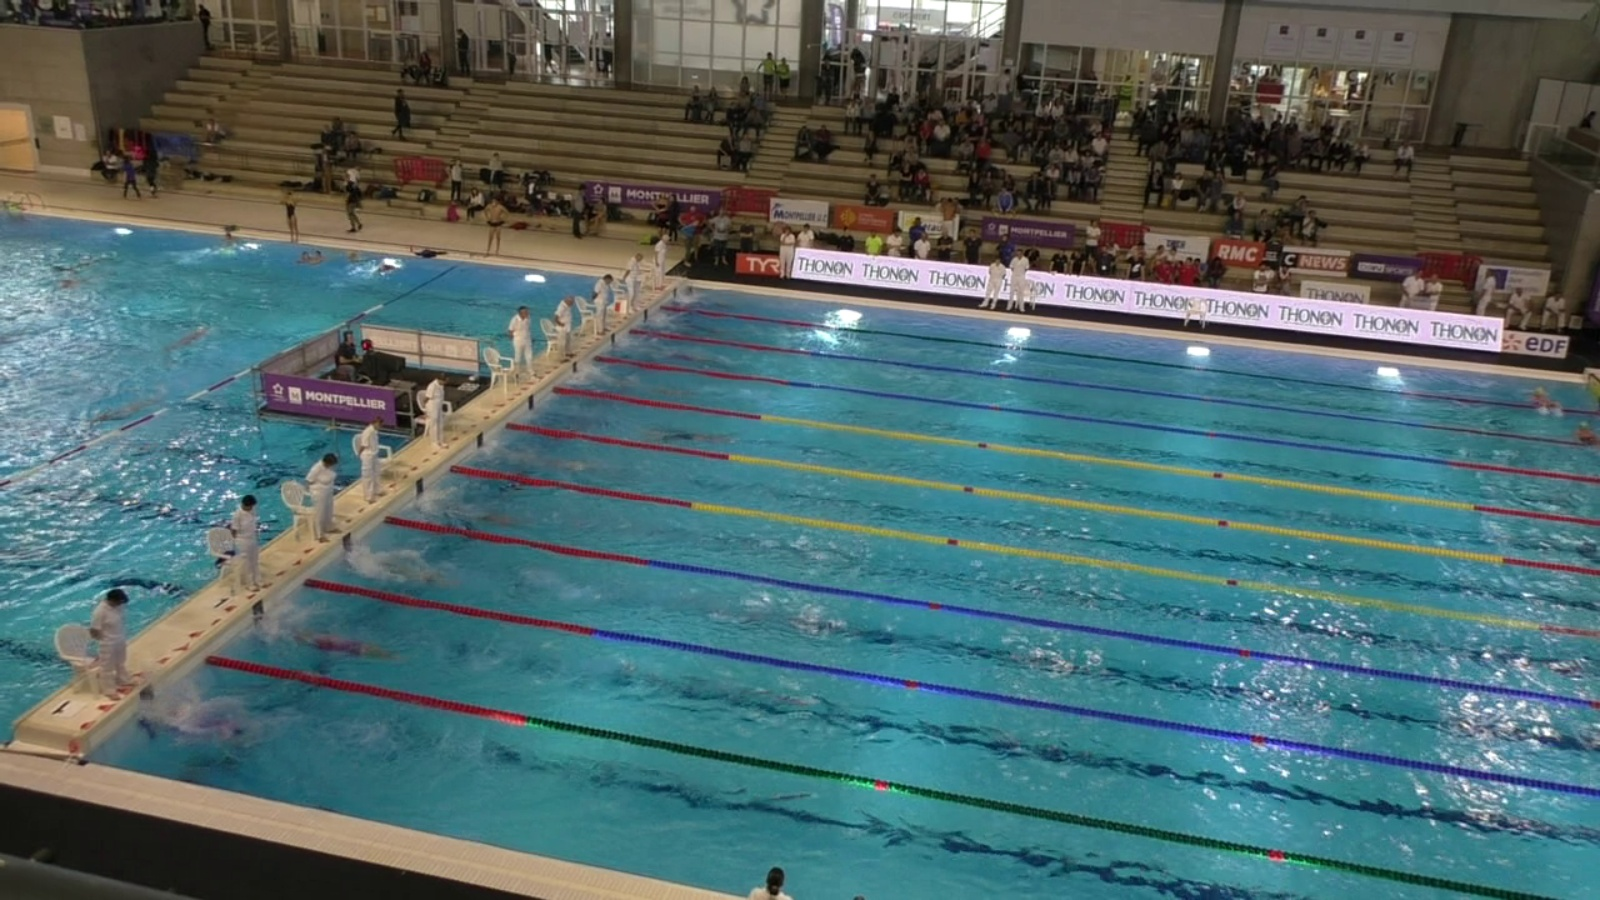swimmerwdd: (169, 695, 303, 767), (286, 625, 414, 662), (426, 493, 538, 533), (354, 549, 455, 589), (493, 438, 595, 477), (609, 373, 713, 403), (653, 424, 746, 449), (688, 291, 758, 316), (676, 319, 754, 341), (658, 347, 725, 373)
